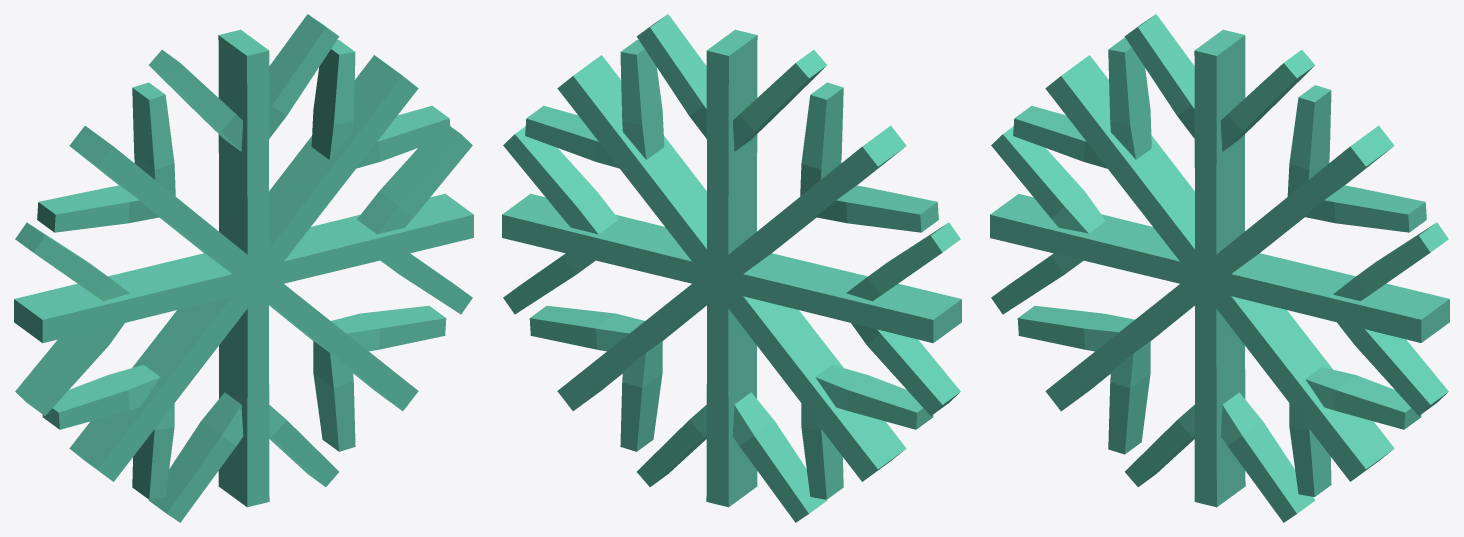
Rendered from Snowflake2.glb.
3 views of the same model, side by side, from view 1: azimuth 30°, elevation 25°; view 2: azimuth 150°, elevation 25°; view 3: azimuth 330°, elevation 25° (orthographic).
Visible parts, largest first — view 1: Snowflake2_Cube.041; view 2: Snowflake2_Cube.041; view 3: Snowflake2_Cube.041.
Boxes of the visible parts, bbox=[...] form: Snowflake2_Cube.041: bbox=[14, 14, 473, 522]; Snowflake2_Cube.041: bbox=[502, 14, 961, 522]; Snowflake2_Cube.041: bbox=[990, 14, 1449, 522].
Bounding box in the file's own units: 0.8948 × 0.8948 × 0.1008.
